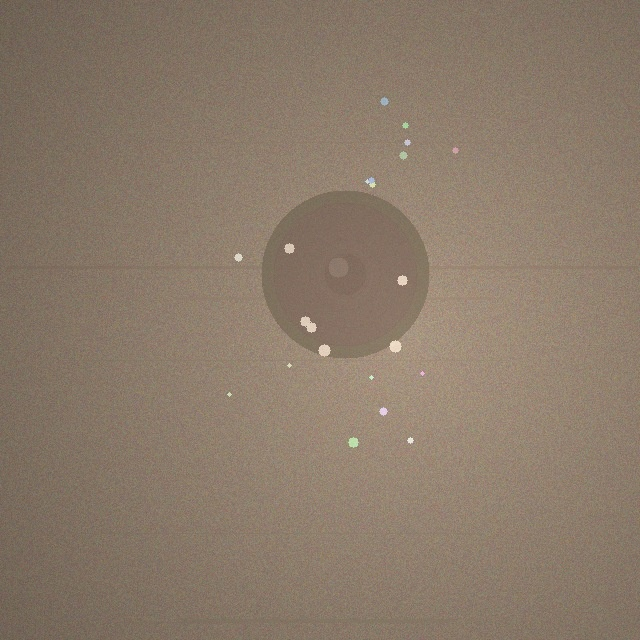overburn: (261, 190, 429, 358)
